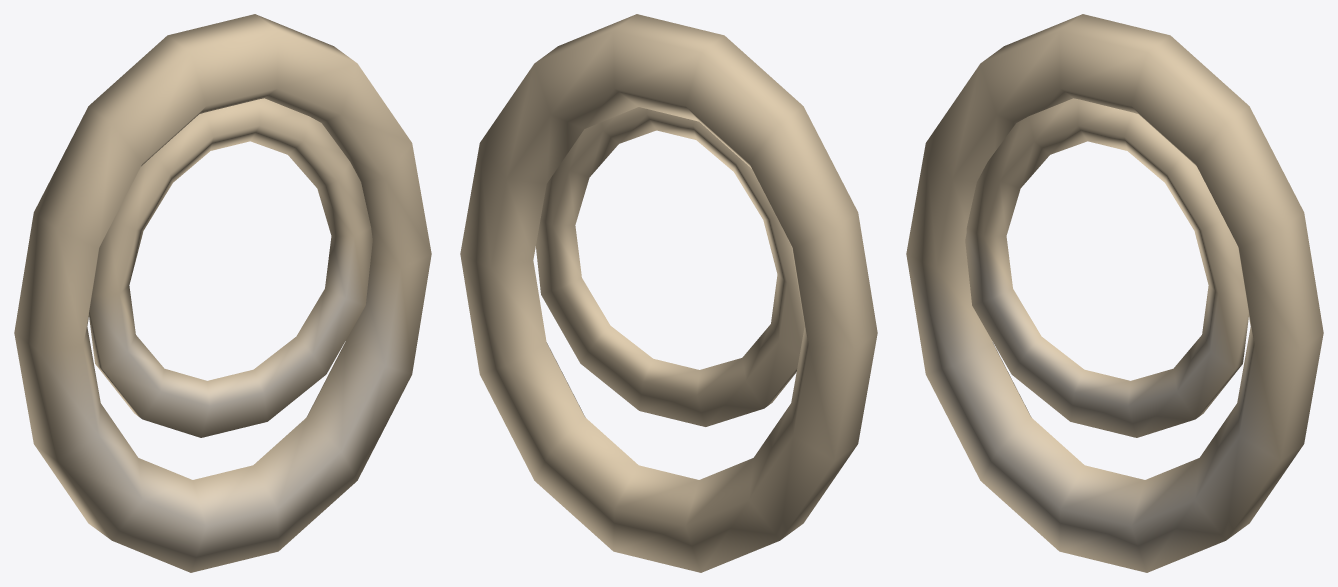
File: RookiesShopRope_1.glb
The picture shows the model from 3 angles, left to right: view 1: azimuth 30°, elevation 25°; view 2: azimuth 150°, elevation 25°; view 3: azimuth 330°, elevation 25°; orthographic projection.
Visible parts, largest first — view 1: RookiesShopRope; view 2: RookiesShopRope; view 3: RookiesShopRope.
Boxes of the visible parts, bbox=[...] form: RookiesShopRope: bbox=[14, 14, 431, 572]; RookiesShopRope: bbox=[460, 14, 877, 572]; RookiesShopRope: bbox=[906, 14, 1323, 572].
Size of the model in its own units: 0.5687 by 0.7179 by 0.095.
